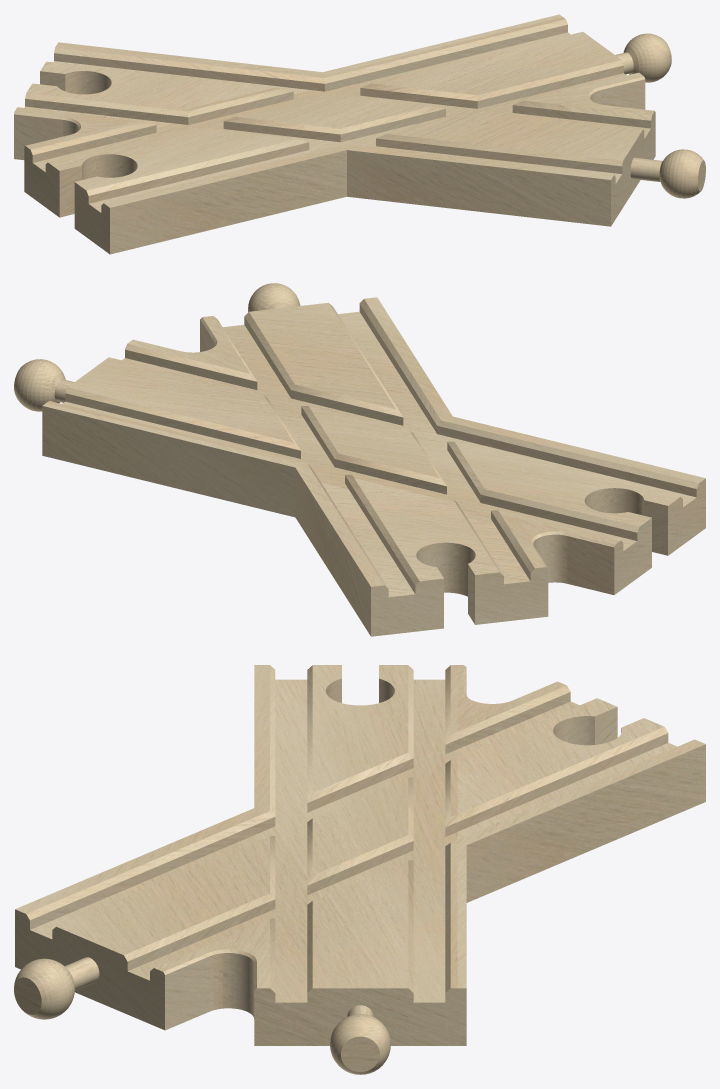
The picture shows the model from 3 angles, top to bottom: view 1: azimuth 30°, elevation 25°; view 2: azimuth 150°, elevation 25°; view 3: azimuth 270°, elevation 25°; orthographic projection. The views are drawn at different scales.
Visible parts, largest first — view 1: SketchUp (×2), _3d_peg (×2); view 2: SketchUp (×2), _3d_peg (×2); view 3: SketchUp (×2), _3d_peg (×2).
Part boxes in pixels (left/top/right/bottom): SketchUp (×2): left=14, top=14, right=655, bottom=254; _3d_peg (×2): left=615, top=33, right=705, bottom=198; SketchUp (×2): left=42, top=297, right=705, bottom=636; _3d_peg (×2): left=14, top=283, right=300, bottom=411; SketchUp (×2): left=15, top=665, right=705, bottom=1045; _3d_peg (×2): left=14, top=957, right=390, bottom=1074.
Size of the model in its own units: 6.32 by 5.13 by 0.4724.
